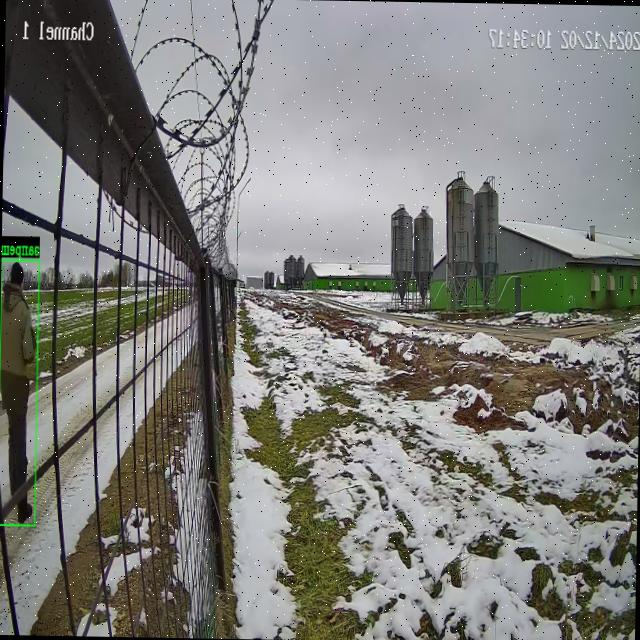Person: (0, 262, 33, 492), (17, 495, 32, 522)
